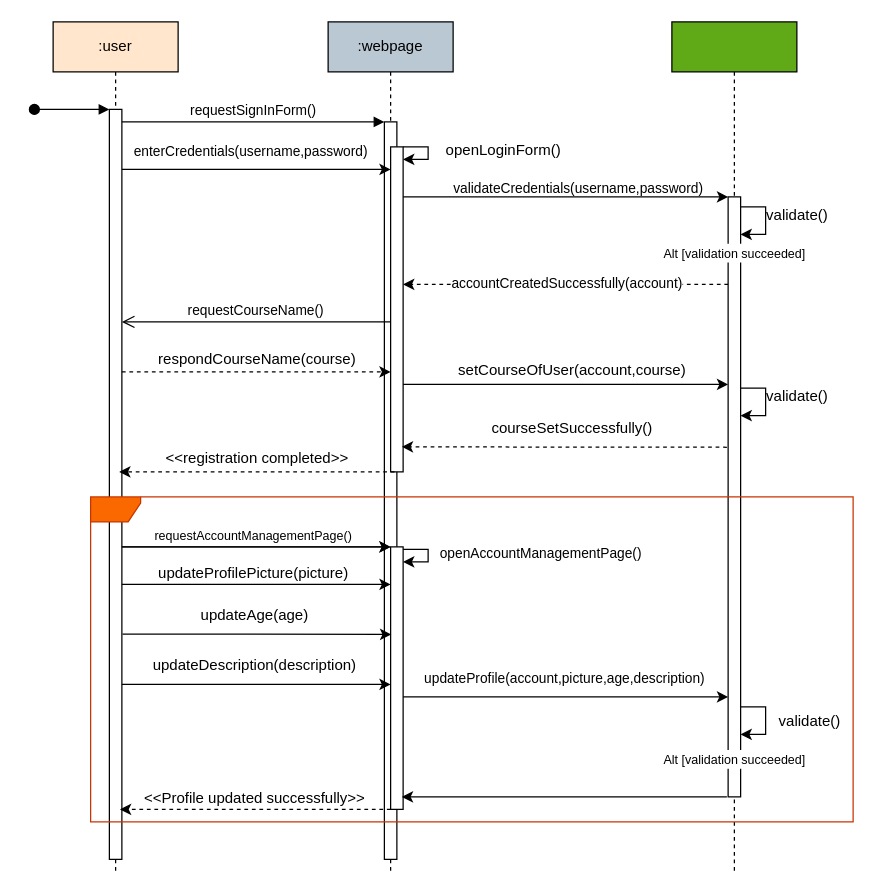
Image size: 875x894. Some labels were removed from this diagram. The box of each missing label's shape, as (x1, y1, x2, y2) in pixels:
:backend: (671, 21, 797, 872)
opt: (89, 496, 853, 822)
